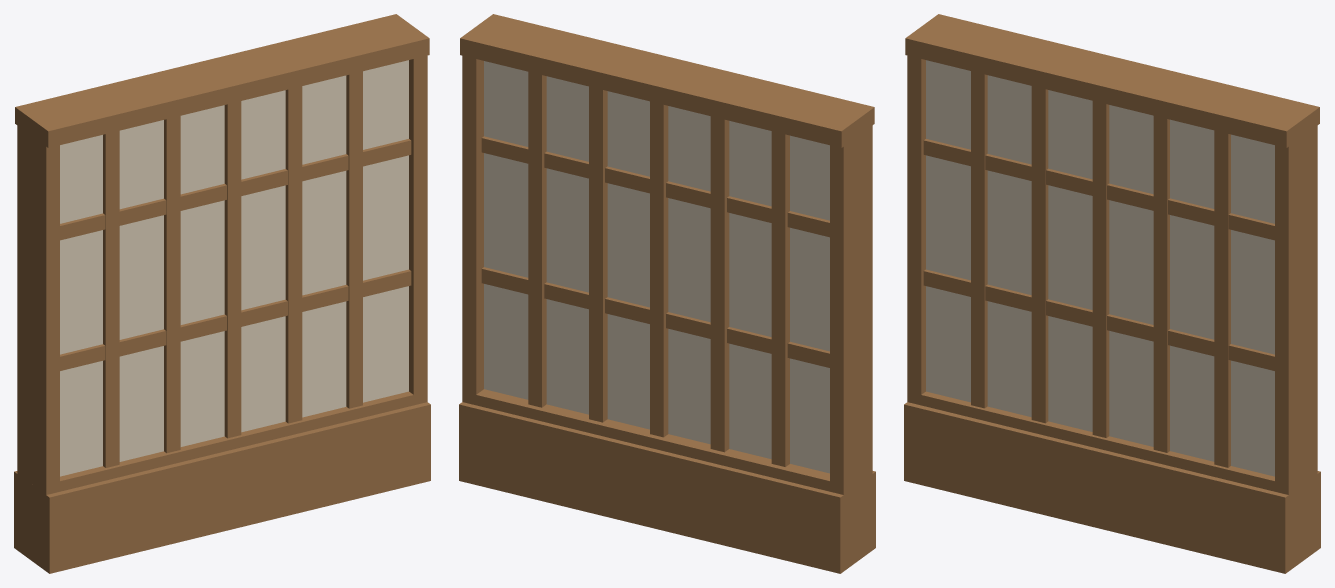
The model's file is Wall_Shoji_Interior.fbx.
The picture shows the model from 3 angles, left to right: view 1: azimuth 30°, elevation 25°; view 2: azimuth 150°, elevation 25°; view 3: azimuth 330°, elevation 25°; orthographic projection.
Visible parts, largest first — view 1: Wall_Shoji_Interior; view 2: Wall_Shoji_Interior; view 3: Wall_Shoji_Interior.
Boxes of the visible parts, <box> form: Wall_Shoji_Interior: <box>14,14,430,573</box>; Wall_Shoji_Interior: <box>459,14,875,573</box>; Wall_Shoji_Interior: <box>904,14,1320,573</box>.
Size of the model in its own units: 400 by 443 by 64.45.
